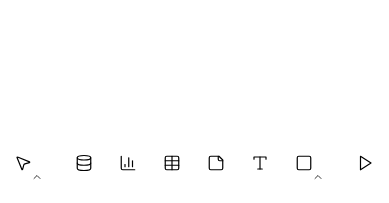
Test: CanvasToolbar › closes an open menu when another tool is used
Click the button with test id "canvas-tool-shape-caret".
click(318, 177)  # box top-left (309, 168), bottom-right (327, 186)
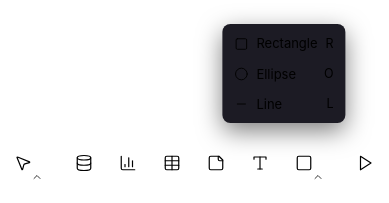
Check: the menu item with test id "canvas-tool-shape-ellipse" is shown, box top-left (234, 66), bottom-right (334, 82)
Click the button with test id "canvas-tool-text".
click(260, 163)  # box top-left (240, 143), bottom-right (280, 183)
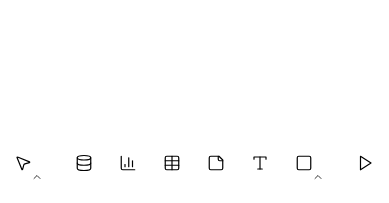
Check: the menu item with test id "canvas-tool-shape-ellipse" is gone
